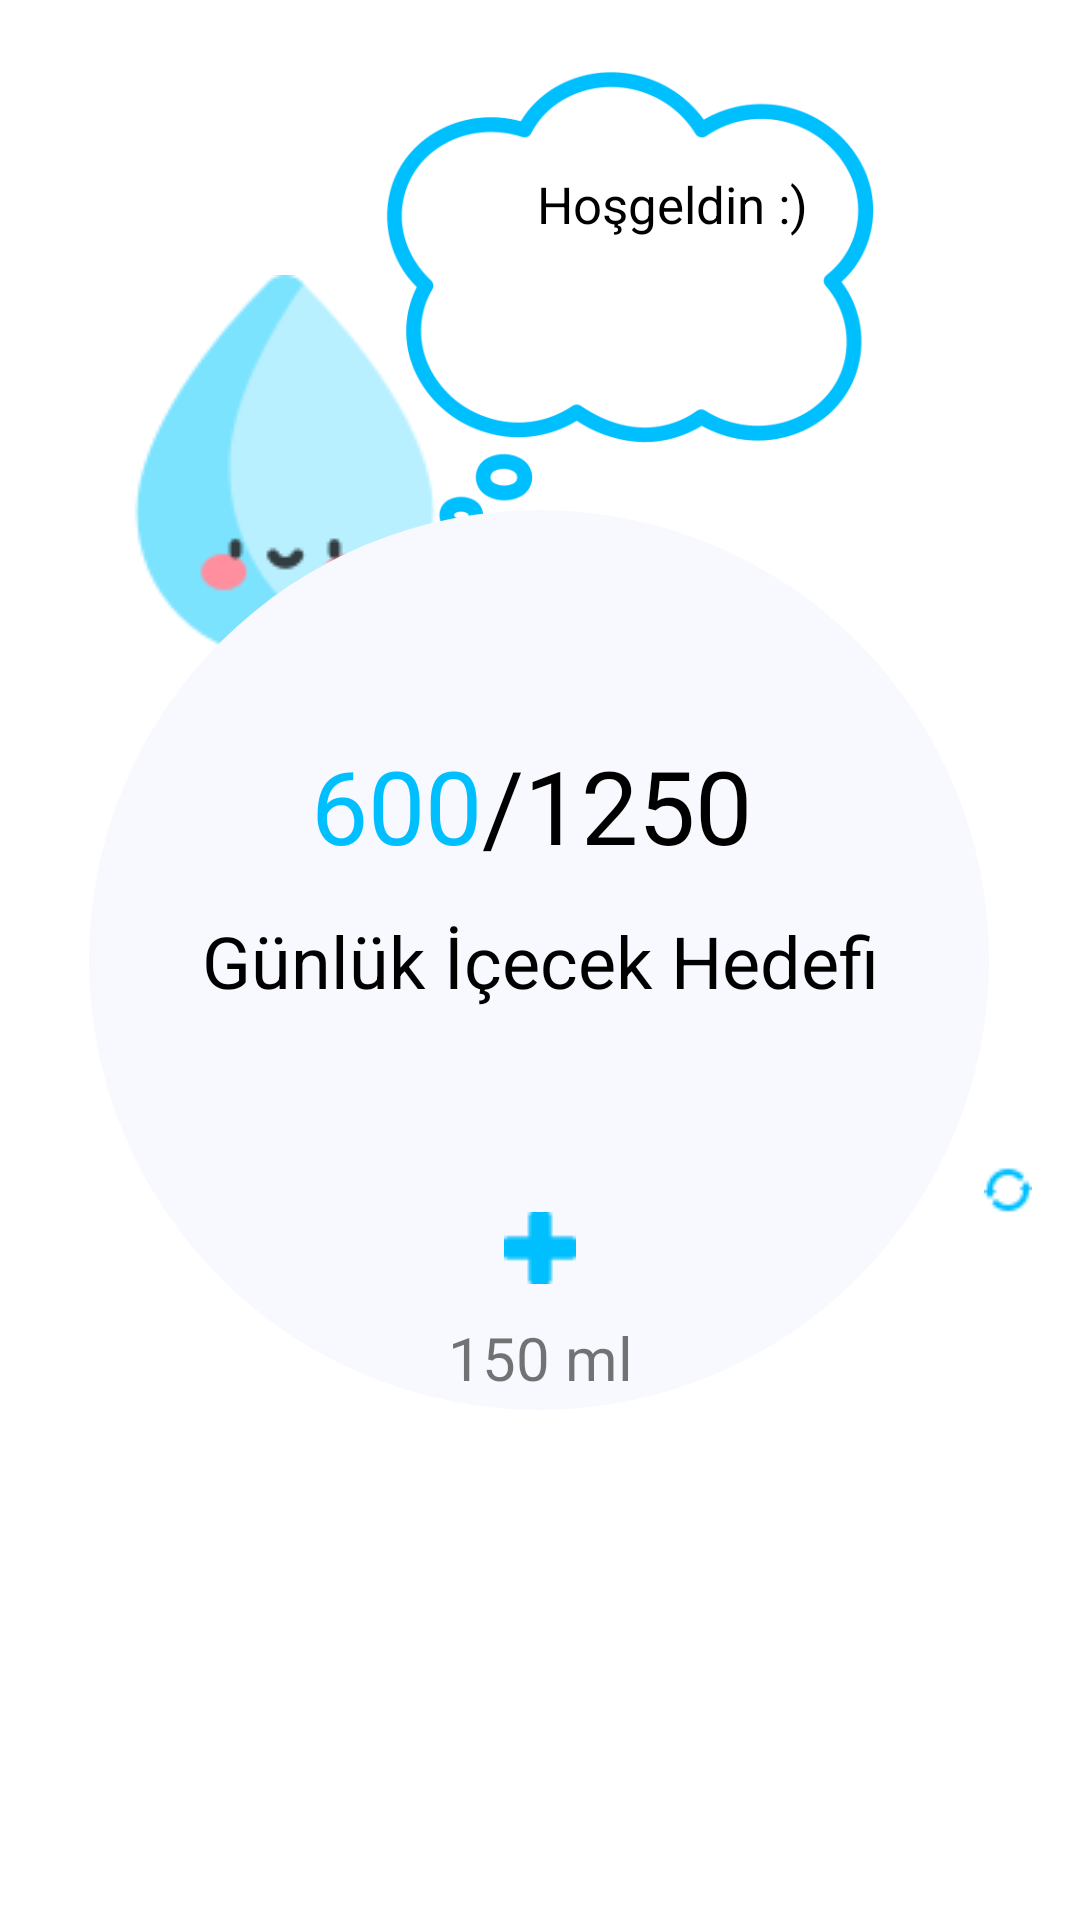

Icons on this 1080px×1920px Android screen, each with the point to tap as (x,y):
add: (540,1248)
